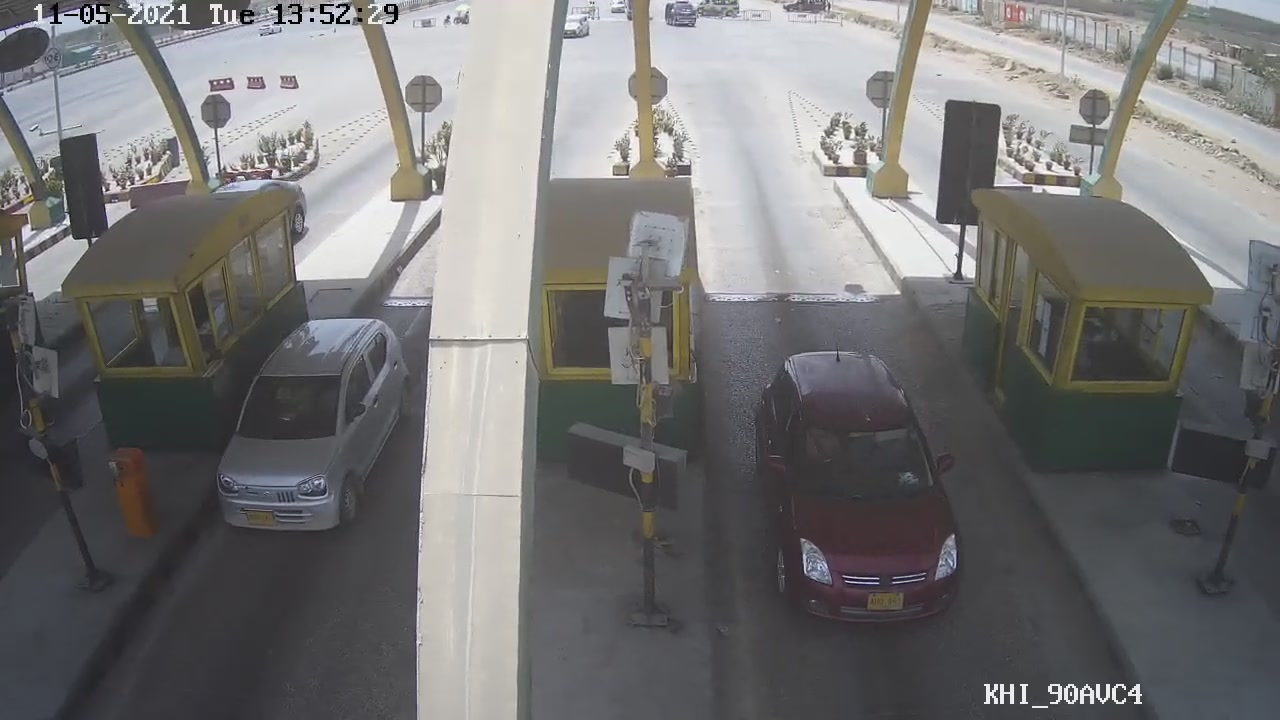F1: (750, 344, 962, 633)
